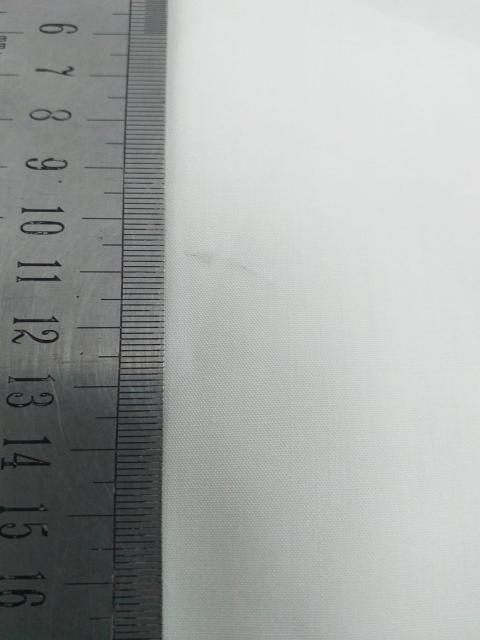Dirty_mark: (188, 249, 268, 286)
